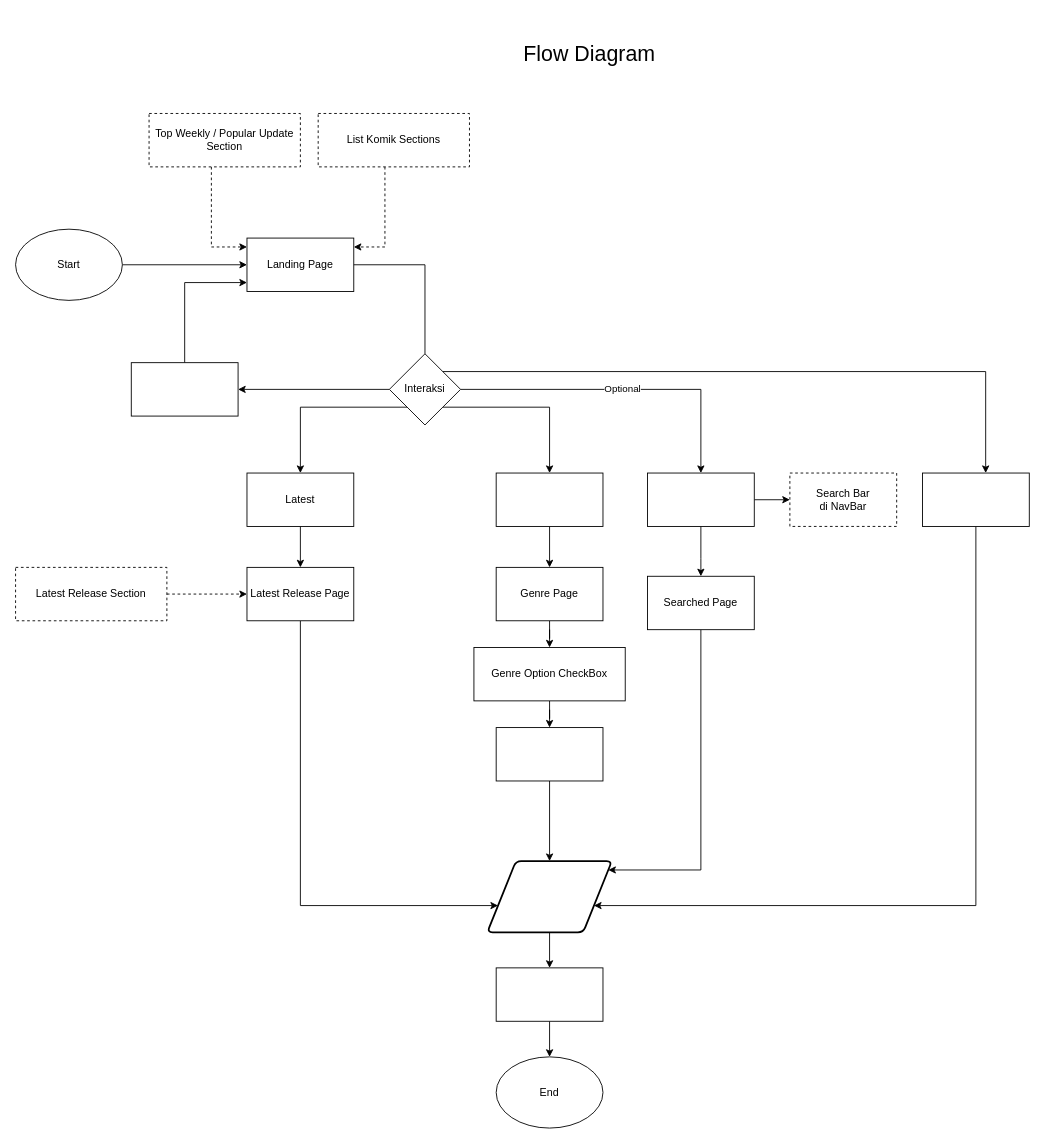
Some shapes in this 1045 by 1144 pixel diagram are drawn without their labels. The shapes that lost their labels are listed below. From the top down, each one's centre as x and y in pixels, then its label:
At (184,389): "Home".
At (549,499): "Genre".
At (700,499): "Search (opt)".
At (975,499): "Toggle Dark / Light Mode".
At (549,754): "Selected Genre (new view / refresh javascripts)".
At (549,896): "Pilih Komik".
At (549,994): "Komik Page".
